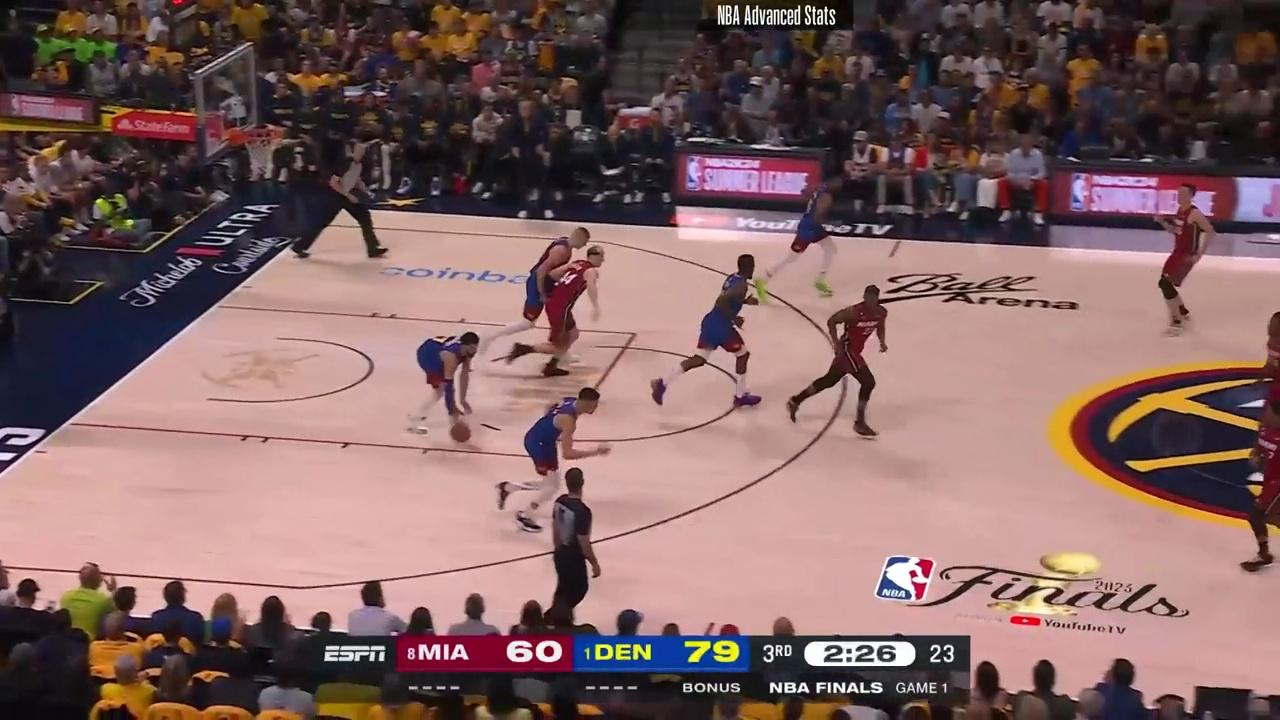Backboard: (197, 45, 259, 153)
Ball: (451, 422, 472, 442)
Basket: (239, 126, 284, 177)
Person: (494, 382, 611, 533), (792, 281, 898, 438), (476, 226, 591, 365), (662, 254, 763, 410), (500, 241, 604, 380), (1148, 181, 1218, 337), (412, 326, 481, 444), (779, 174, 841, 300), (1244, 410, 1280, 577), (1256, 307, 1280, 418)
Referee: (522, 463, 608, 618), (303, 135, 392, 261)
